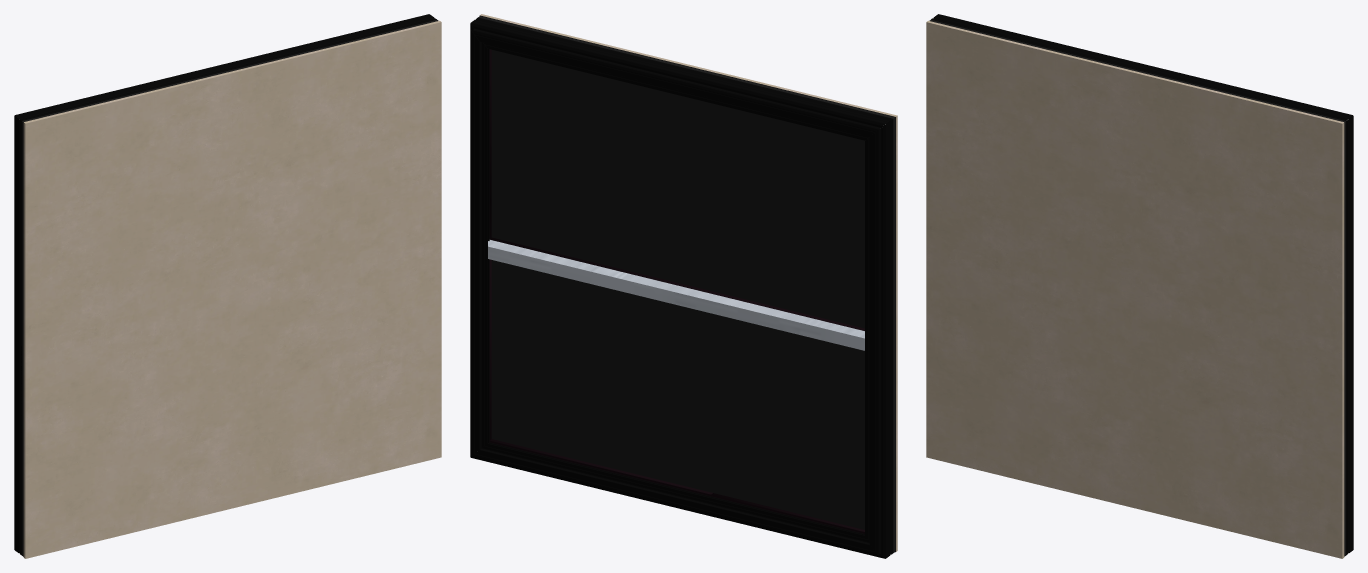
File: ceramitex-test.glb
The picture shows the model from 3 angles, left to right: view 1: azimuth 30°, elevation 25°; view 2: azimuth 150°, elevation 25°; view 3: azimuth 330°, elevation 25°; orthographic projection.
Visible parts, largest first — view 1: Panel.001, Extrussion; view 2: Panel.001, Extrussion; view 3: Panel.001, Extrussion.
Part boxes in pixels (<box>): Panel.001: <box>23,20,441,558</box>; Extrussion: <box>14,14,438,556</box>; Panel.001: <box>479,14,897,552</box>; Extrussion: <box>470,16,895,558</box>; Panel.001: <box>926,20,1344,558</box>; Extrussion: <box>929,14,1353,556</box>.
Size of the model in its own units: 0.7624 by 0.762 by 0.0472.
8 materials, 3 textured.
